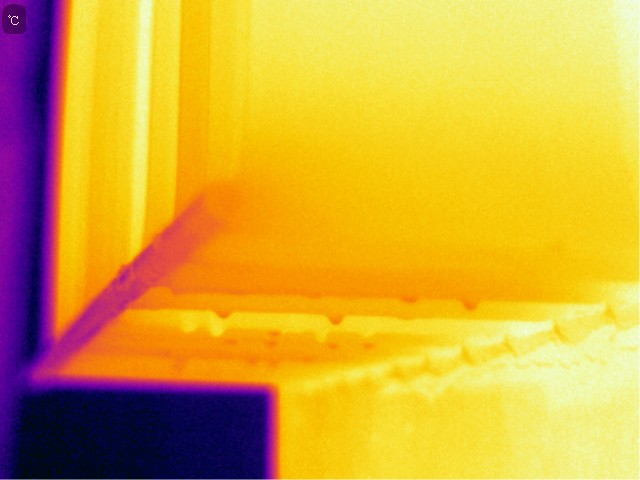Oil: (201, 300, 240, 343), (288, 315, 323, 341), (170, 309, 193, 339), (213, 302, 238, 323), (321, 308, 347, 328), (461, 292, 480, 316), (264, 329, 284, 351), (357, 317, 374, 338), (399, 293, 427, 305), (323, 339, 345, 354), (361, 340, 375, 351)
